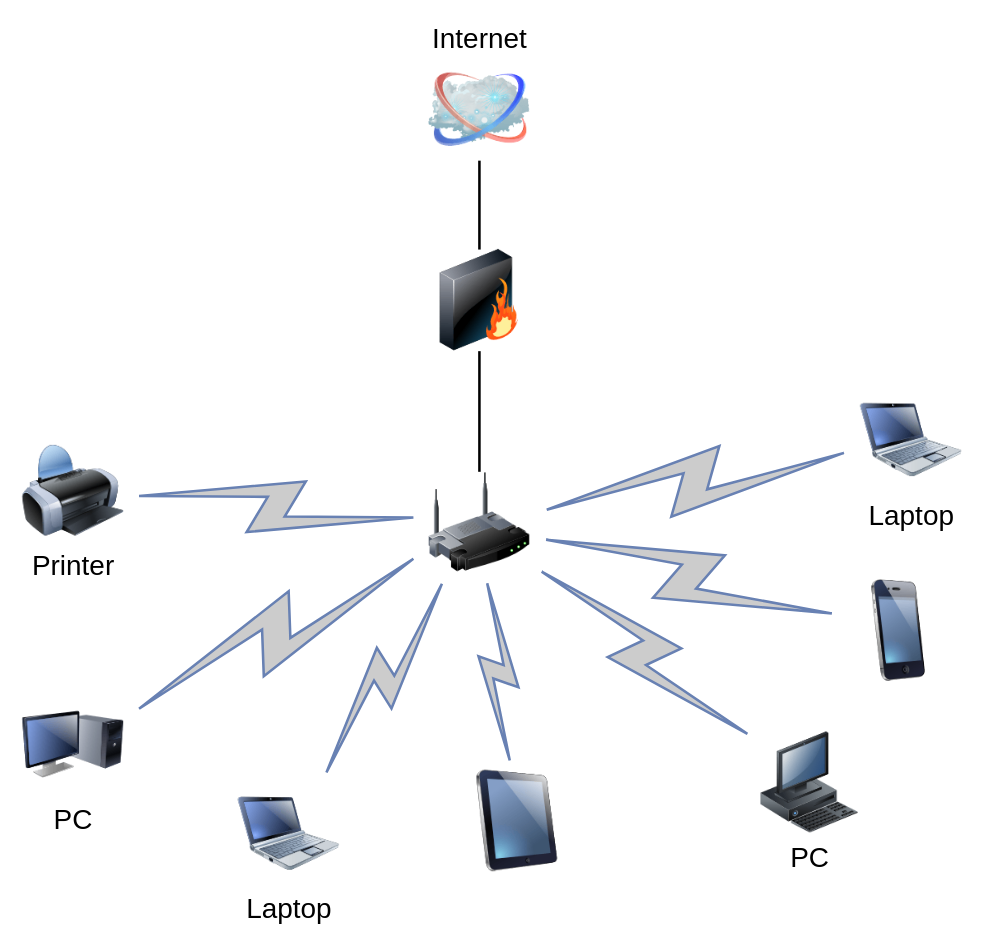
This 983x947 diagram has some shape labels left out. Each missing label, with the box of its shape:
Firewall: (428, 249, 530, 351)
Mobile: (847, 579, 949, 681)
Tablet: (466, 770, 568, 871)
